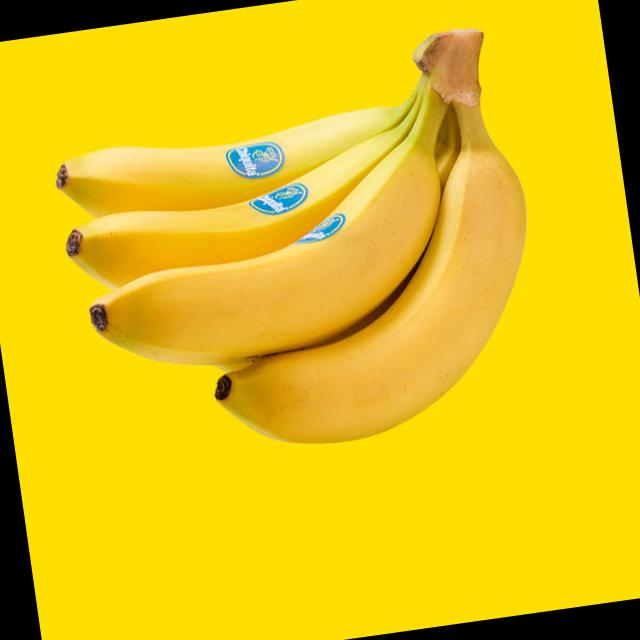banana: (182, 138, 568, 464), (58, 128, 480, 398), (44, 93, 458, 304), (35, 85, 446, 232)
